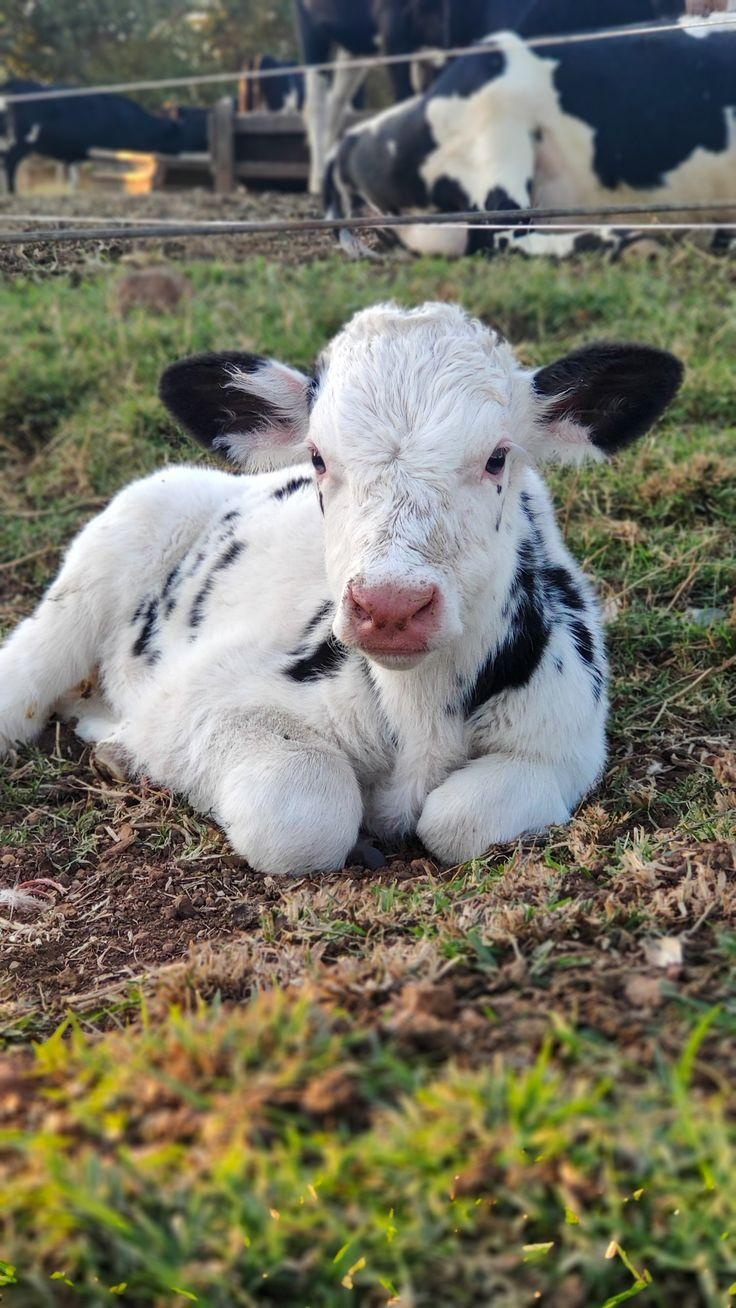cow: (73, 150, 637, 917)
